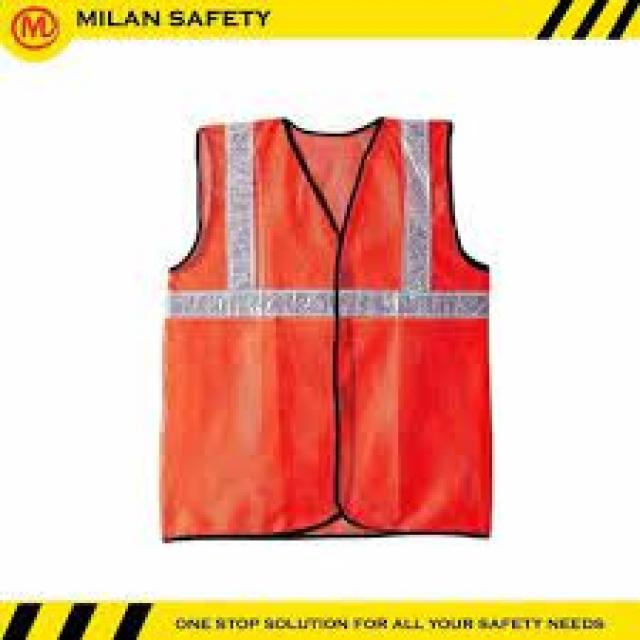Reflective-Jacket: (77, 80, 577, 543)
